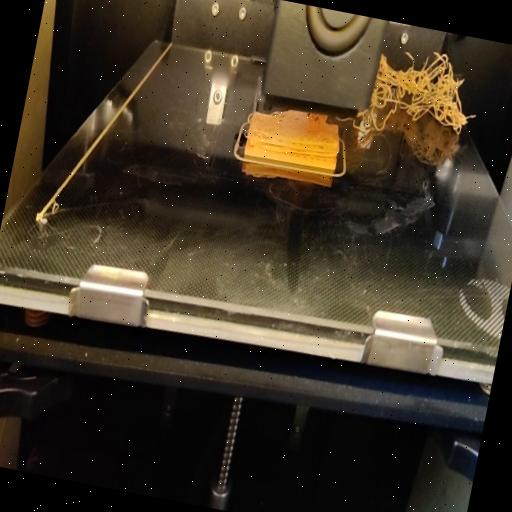spaghetti: (365, 41, 485, 147)
